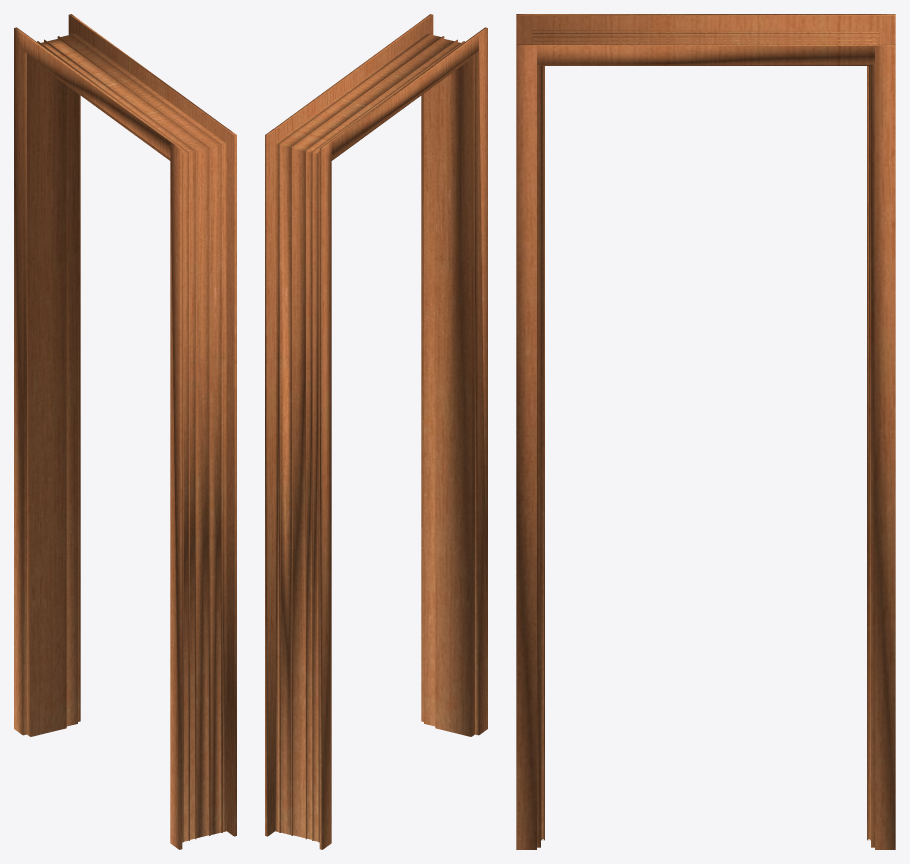
Rendered from marco_pvc5cm.fbx.
The picture shows the model from 3 angles, left to right: view 1: azimuth 30°, elevation 25°; view 2: azimuth 150°, elevation 25°; view 3: azimuth 270°, elevation 25°; orthographic projection. The views are drawn at different scales.
Parts seen in each view (by area): view 1: marco_alisar5cm; view 2: marco_alisar5cm; view 3: marco_alisar5cm.
Boxes of the visible parts, x1=… form: marco_alisar5cm: x1=14, y1=14, x2=236, y2=849; marco_alisar5cm: x1=265, y1=14, x2=487, y2=849; marco_alisar5cm: x1=516, y1=14, x2=895, y2=849.
Size of the model in its own units: 18.6 by 217 by 92.58.
